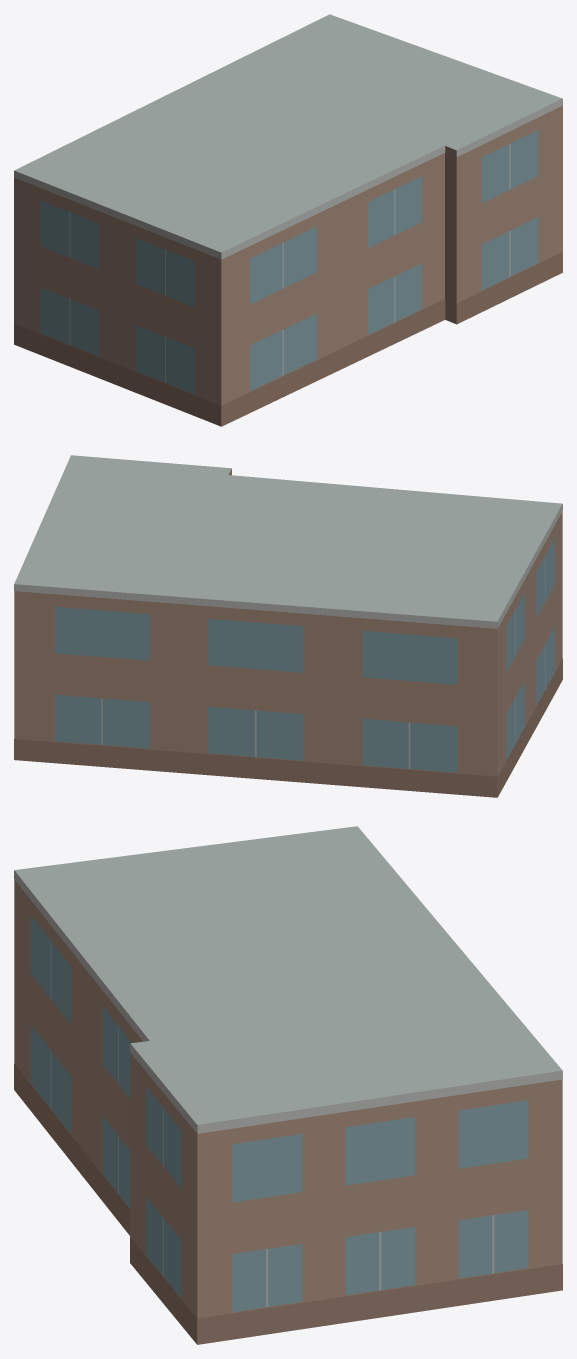
Rendered from survey-upis-32788190.glb.
3 views of the same model, one above another, from view 1: azimuth 30°, elevation 25°; view 2: azimuth 150°, elevation 25°; view 3: azimuth 270°, elevation 25° (orthographic). The views are drawn at different scales.
Parts seen in each view (by area): view 1: survey-upis-32788190.tmp; view 2: survey-upis-32788190.tmp; view 3: survey-upis-32788190.tmp.
Boxes of the visible parts, <box> form: survey-upis-32788190.tmp: <box>14,14,562,426</box>; survey-upis-32788190.tmp: <box>14,455,562,797</box>; survey-upis-32788190.tmp: <box>14,826,562,1344</box>.
Size of the model in its own units: 17.82 by 6.1 by 13.82.
